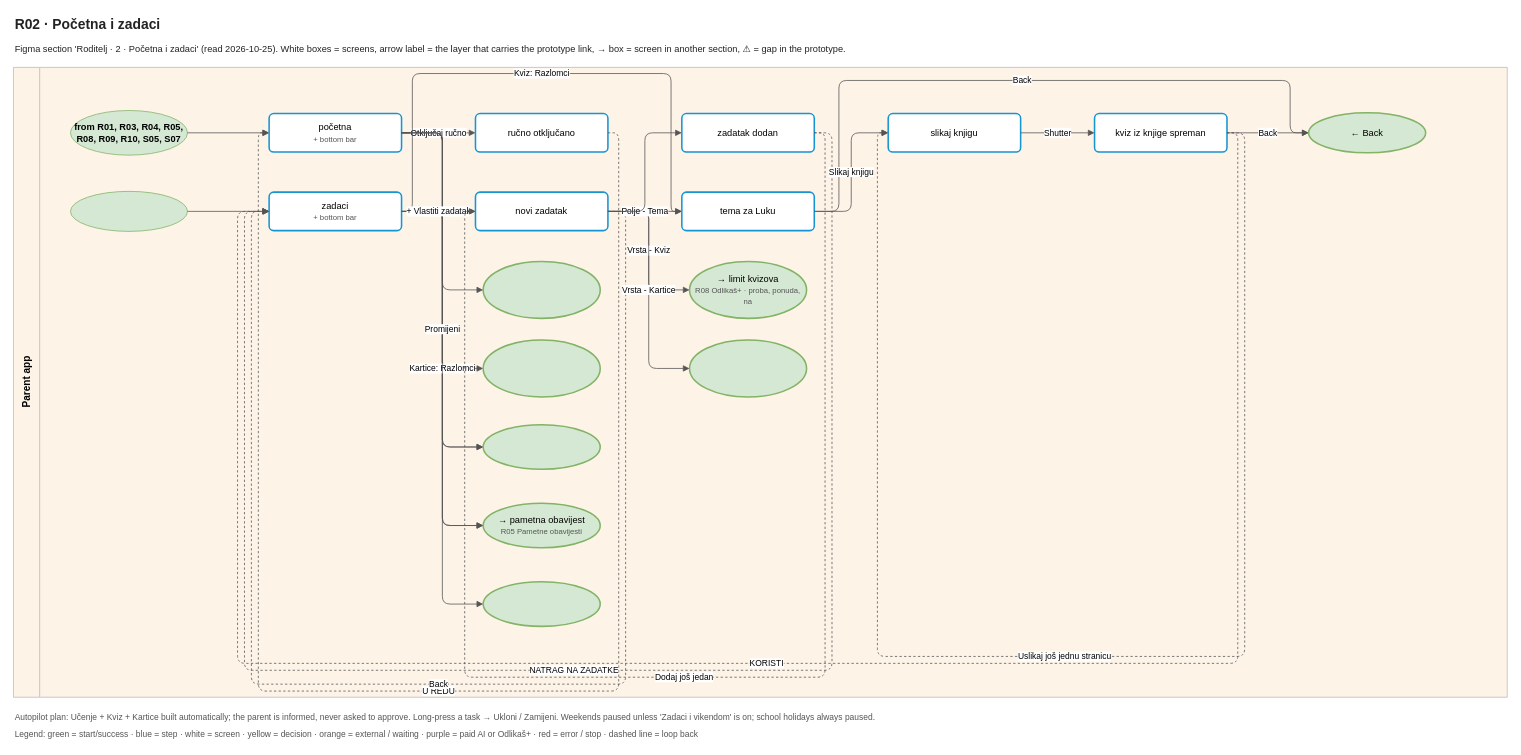
This 1521x755 diagram has some shape labels left out. The centre of each missing label's shape, as x and y in pixels:
"from R05, R06" belongs at (x=128, y=211).
"→ dodaj dijete R01 Registracija, povezivanje, e" belongs at (x=541, y=368).
"→ obavijesti R04 Obavijesti i zahtjevi" belongs at (x=541, y=289).
"→ ocjene i pravila R03 Aplikacije i pravila" belongs at (x=541, y=447).
"→ Odlikaš+ ponuda R08 Odlikaš+ · proba, ponuda, na" belongs at (x=747, y=368).
"→ pametne obavijesti R05 Pametne obavijesti" belongs at (x=541, y=604).
